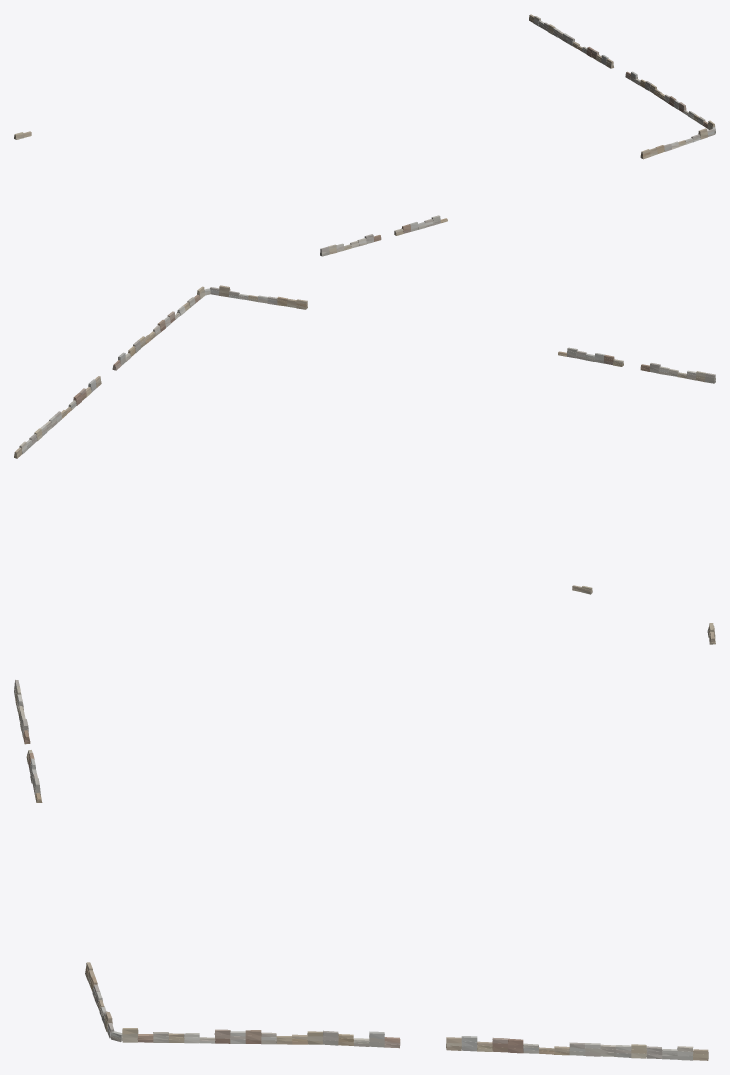
Rendered from farm_37_22_mid.glb.
3 renders of one model, top to bottom at view 1: azimuth 30°, elevation 25°; view 2: azimuth 150°, elevation 25°; view 3: azimuth 270°, elevation 25°, orthographic. The views are drawn at different scales.
Parts seen in each view (by area): view 1: geometry_0; view 2: geometry_0; view 3: geometry_0.
Part boxes in pixels (<box>): geometry_0: <box>14,14,715,256</box>; geometry_0: <box>14,285,715,594</box>; geometry_0: <box>14,623,715,1060</box>.
Bounding box in the file's own units: 103 × 4.61 × 71.78.
